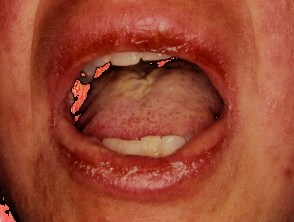SJS-TEN: (0, 0, 291, 221)
